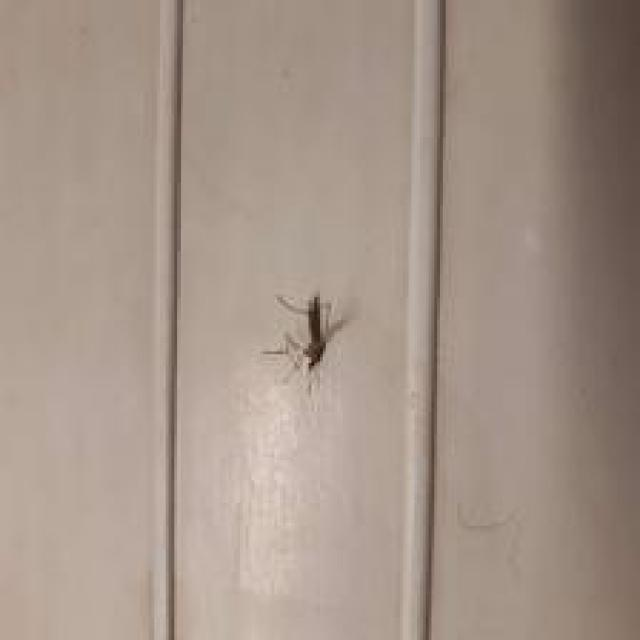Culex: (260, 290, 346, 396)
